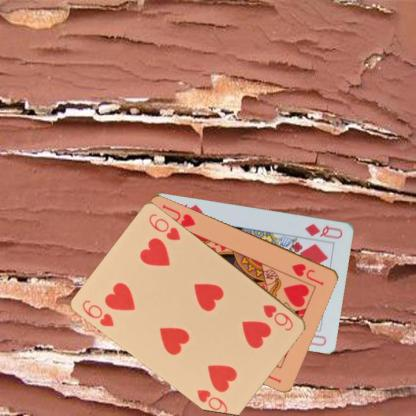6h: (80, 297, 116, 328), (261, 302, 295, 332)
Jh: (289, 261, 326, 287)
Qd: (303, 221, 344, 240)
